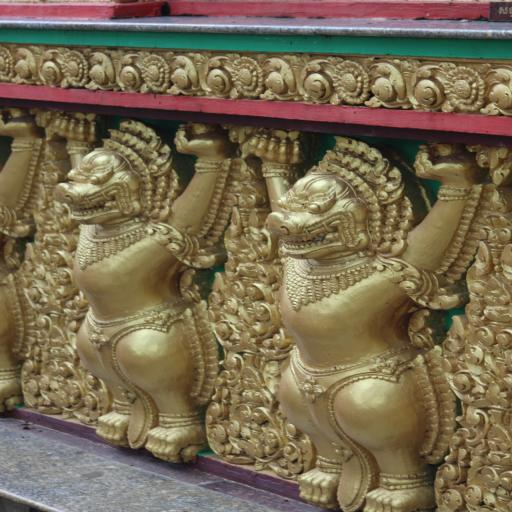hoa: (336, 56, 370, 104), (444, 67, 481, 110), (141, 53, 176, 93), (235, 56, 265, 100), (60, 48, 93, 87), (0, 45, 16, 78)
la: (372, 57, 440, 111), (263, 53, 330, 106), (173, 50, 233, 99), (92, 48, 141, 92), (14, 46, 58, 84), (485, 66, 512, 115)
than: (247, 135, 451, 512), (54, 123, 240, 467)
